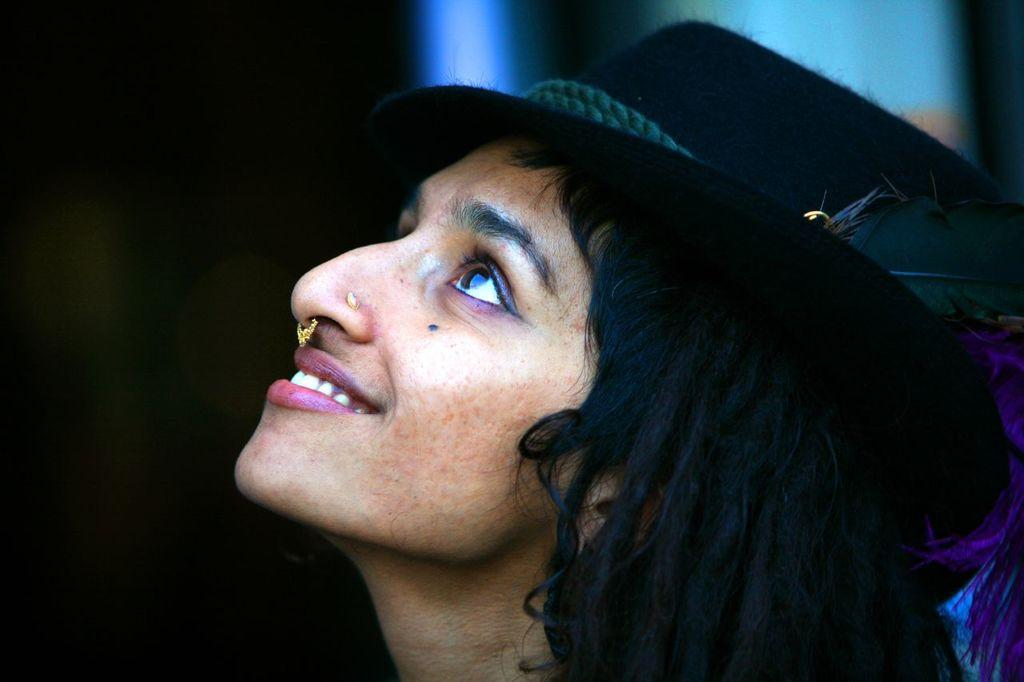Hat: (367, 16, 1023, 680)
